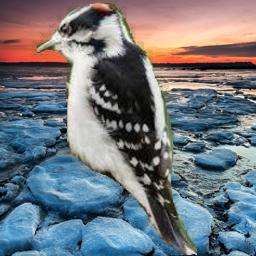Woodpecker: (24, 0, 197, 255)
